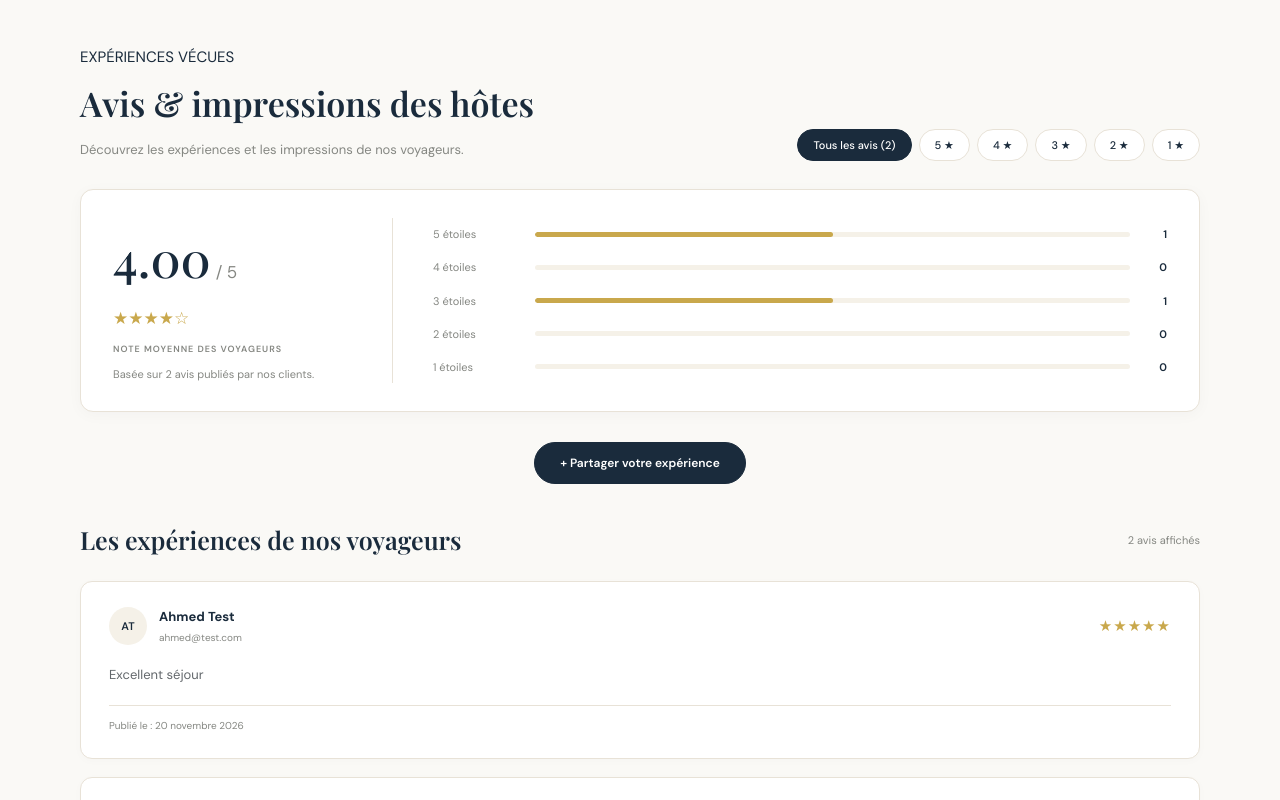
Test case: ClientAvisPage › demande une connexion avant de publier
Check: the text "Excellent séjour" is shown, box [109,666,204,684]
Click the button "+ Partager votre expérience".
click(640, 463)  # box [534,442,746,484]
(page scrolled)
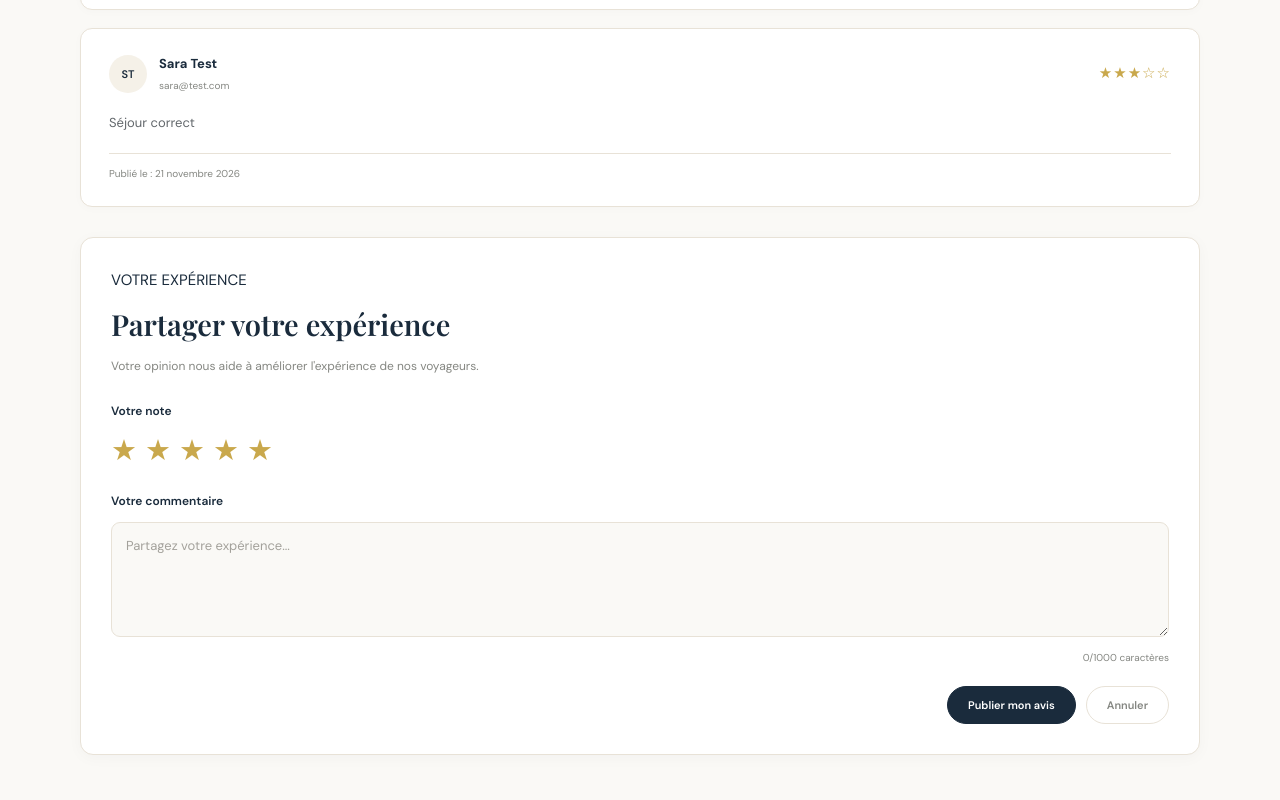
Type "Très bon séjour" into the text box labelled "Votre commentaire".
click(640, 580); type("Très bon séjour")  # box [111,522,1169,637]
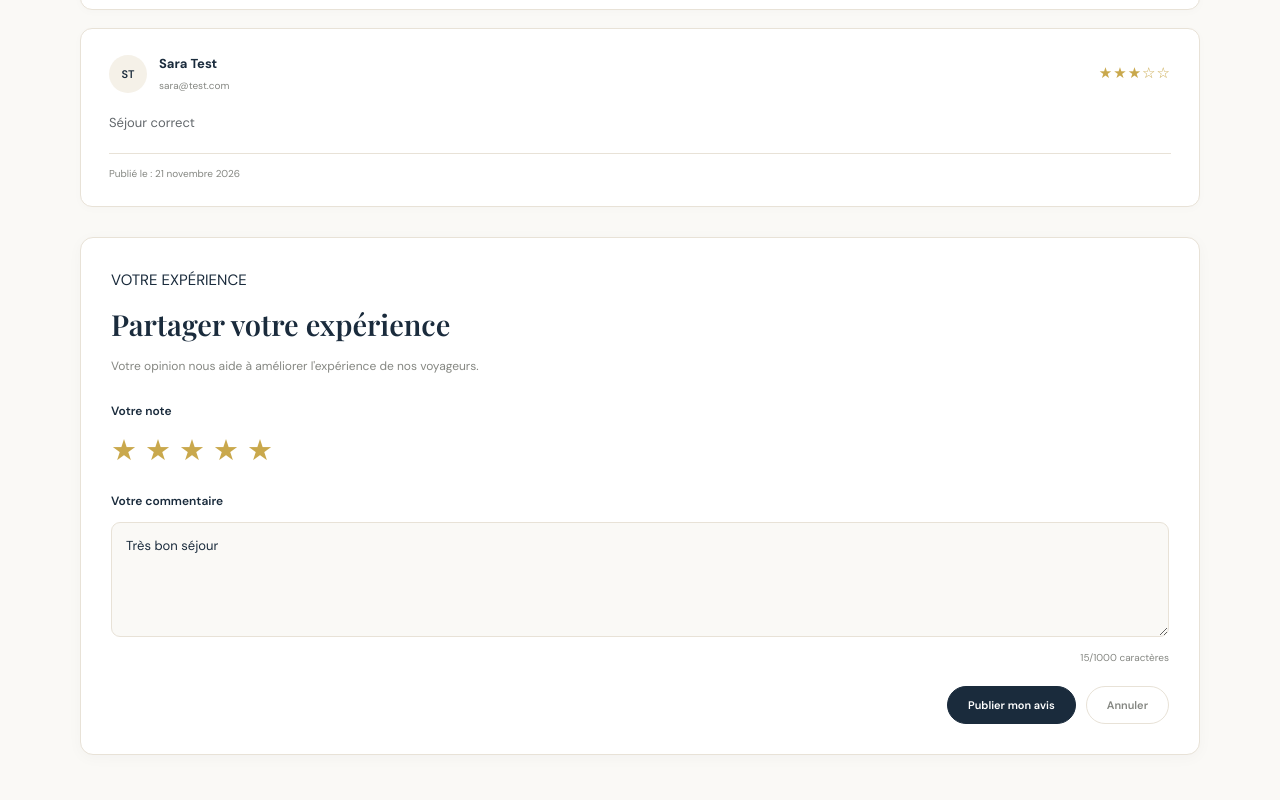
Click the button "Publier mon avis".
click(1011, 705)  # box [947,686,1076,724]
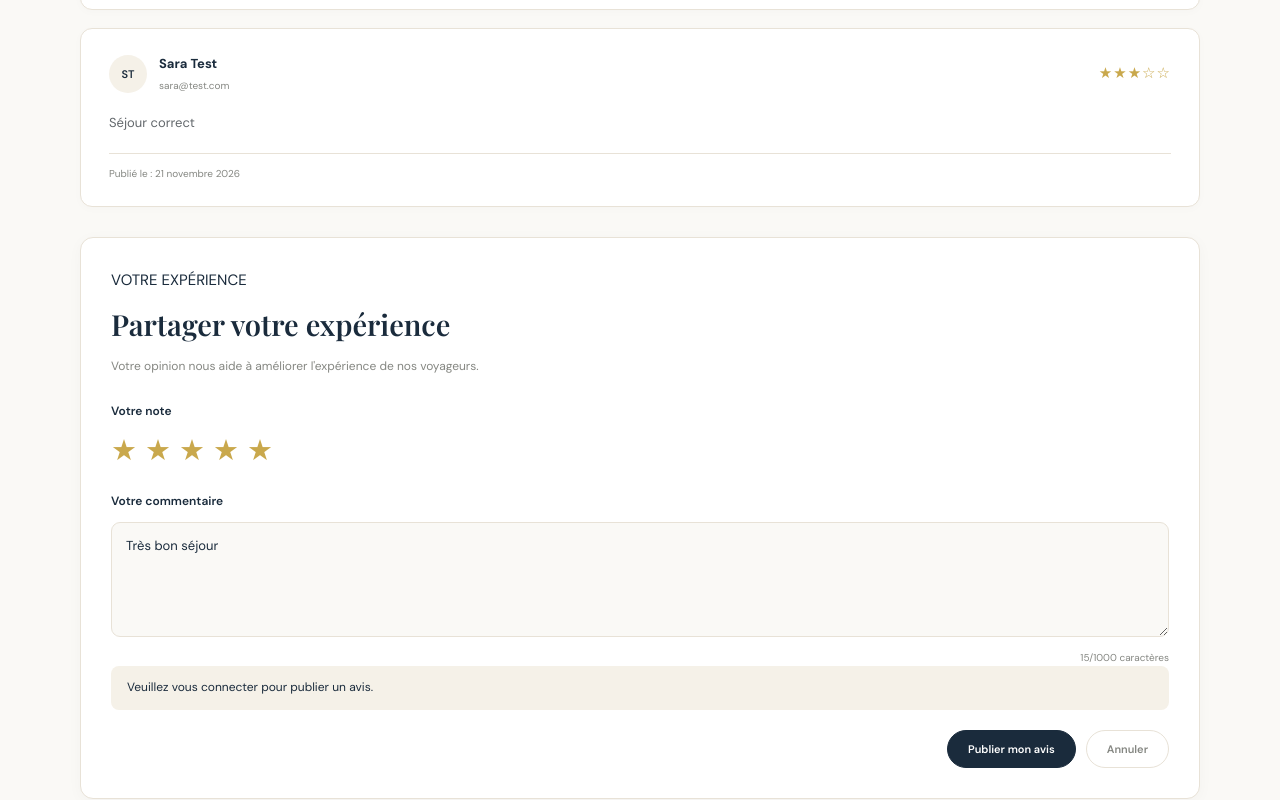
Check: the text "Veuillez vous connecter pour publier un avis." is shown, box [111,666,1169,710]
